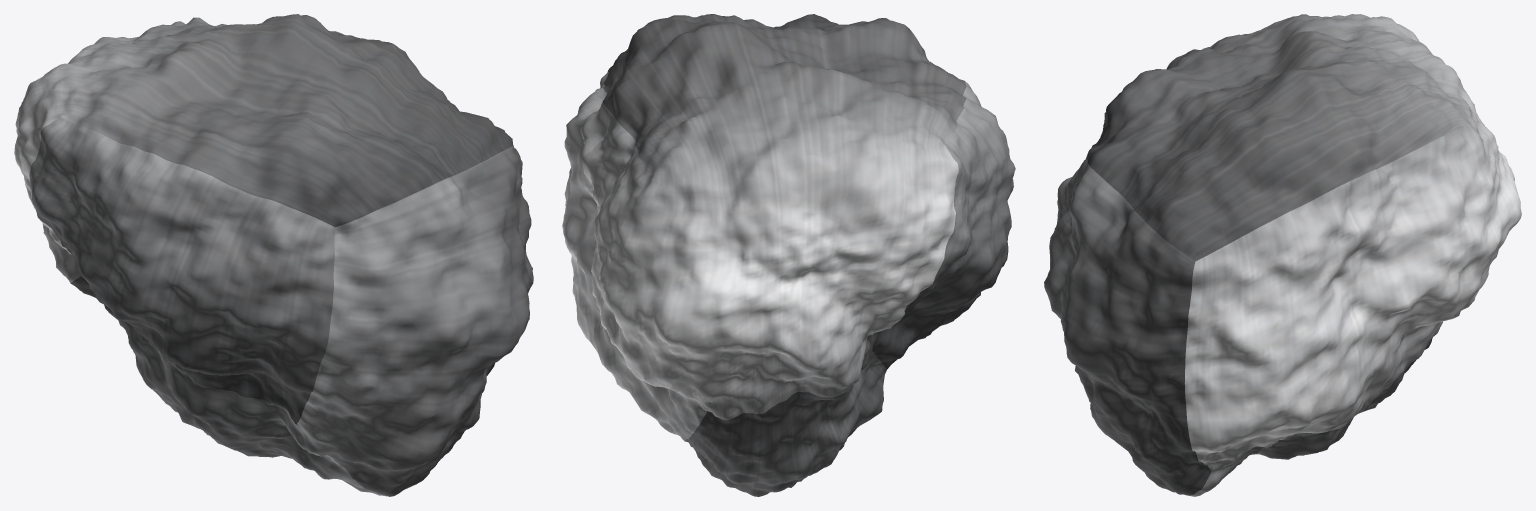
The model's file is CompHie.glb.
3 views of the same model, side by side, from view 1: azimuth 30°, elevation 25°; view 2: azimuth 150°, elevation 25°; view 3: azimuth 270°, elevation 25° (orthographic). The views are drawn at different scales.
Parts seen in each view (by area): view 1: Cube; view 2: Cube; view 3: Cube.
Boxes of the visible parts, bbox=[...] form: Cube: bbox=[14, 14, 533, 496]; Cube: bbox=[562, 14, 1015, 496]; Cube: bbox=[1044, 14, 1521, 496].
Bounding box in the file's own units: 0.6916 × 0.688 × 0.7401.
Materials: 1 (1 with a texture image).
